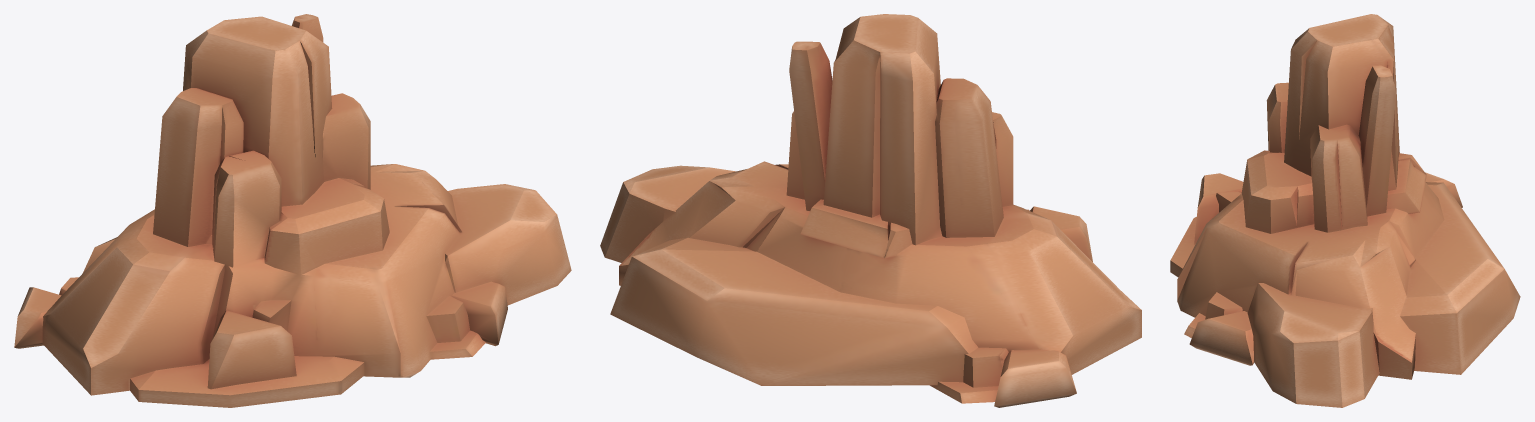
Rendered from rock_5.fbx.
3 renders of one model, left to right at view 1: azimuth 30°, elevation 25°; view 2: azimuth 150°, elevation 25°; view 3: azimuth 270°, elevation 25°, orthographic. The views are drawn at different scales.
Visible parts, largest first — view 1: Rock_5; view 2: Rock_5; view 3: Rock_5.
Boxes of the visible parts, left/top/right/bottom form: Rock_5: left=14, top=14, right=571, bottom=407; Rock_5: left=600, top=14, right=1141, bottom=407; Rock_5: left=1170, top=14, right=1520, bottom=407.
Bounding box in the file's own units: 762 × 434 × 516.
Materials: 1 (1 with a texture image).
